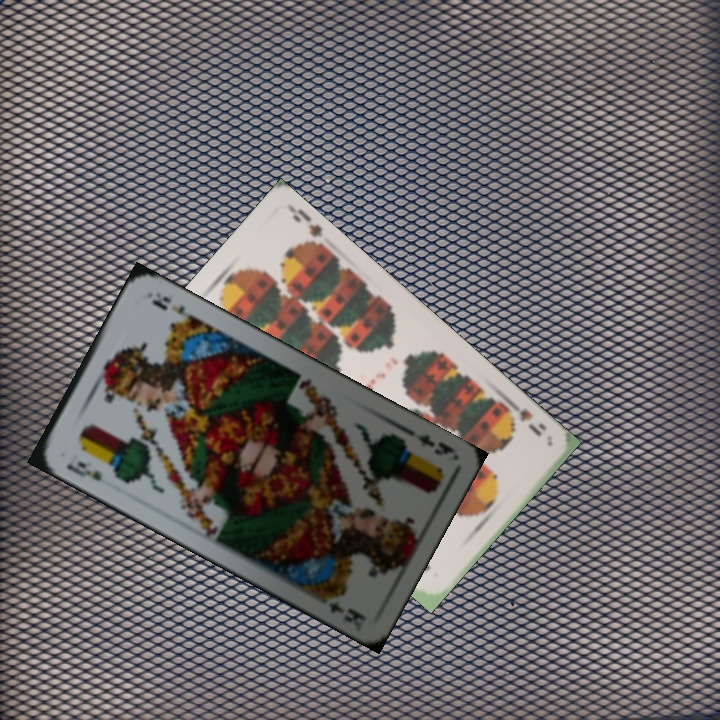EK: (402, 424, 457, 459), (62, 457, 105, 484)
S9: (501, 395, 545, 439)
